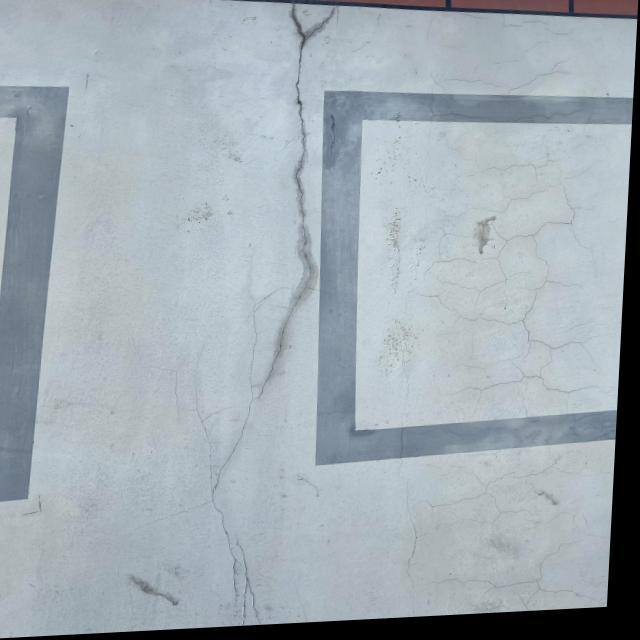crack: (180, 6, 343, 513), (420, 130, 605, 414)
